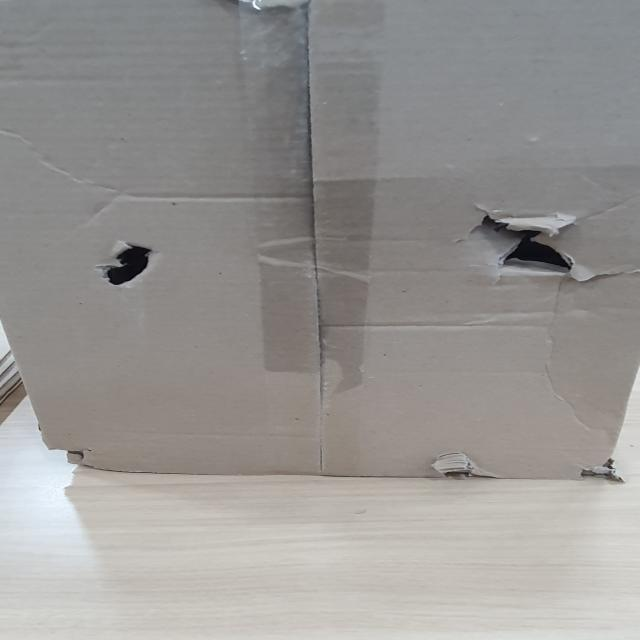hole: (477, 214, 597, 284), (95, 235, 167, 291)
